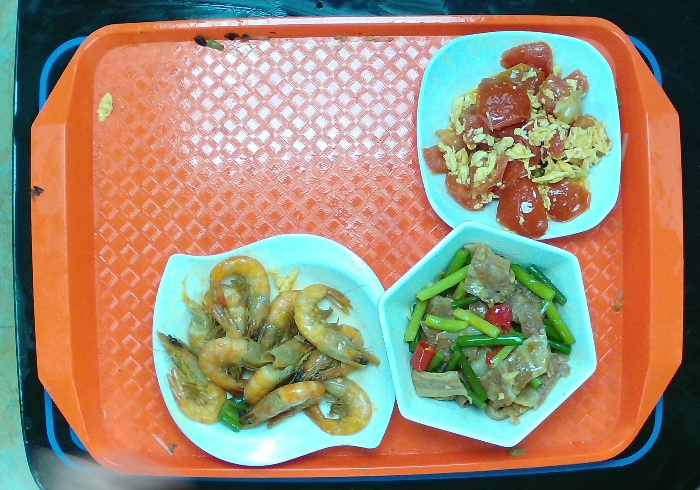RJxy-Liu_Jiao_Wan: (378, 224, 603, 452)
RJxy-Shuang_Jiao_Pan: (149, 230, 400, 465)
RJxy-Si_Fang_Wan: (415, 26, 624, 239)
